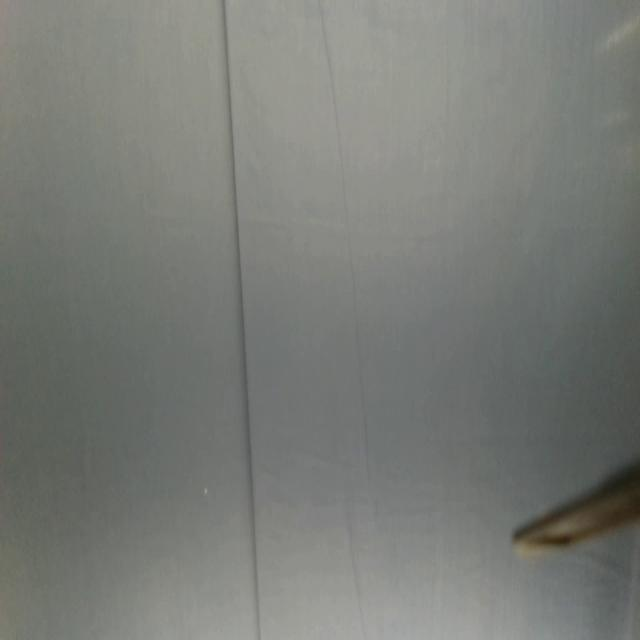crease: (315, 1, 371, 488), (221, 0, 263, 640), (346, 514, 368, 638)
hole: (203, 484, 209, 500)
